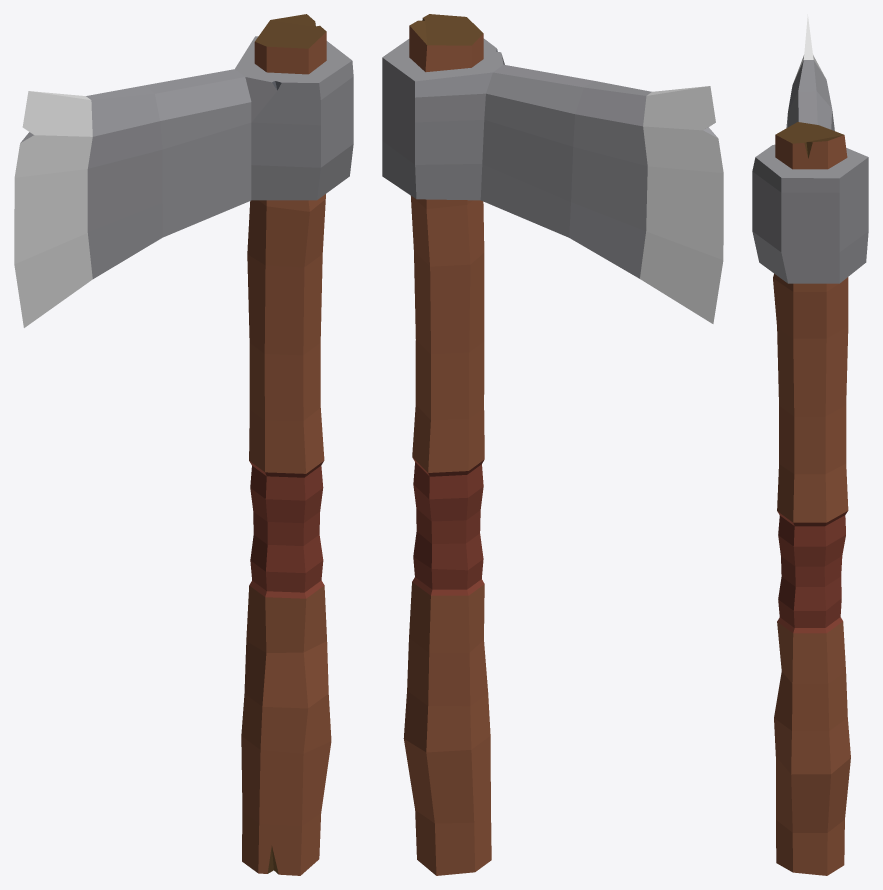
File: Woodcutter Axe.fbx
3 renders of one model, left to right at view 1: azimuth 30°, elevation 25°; view 2: azimuth 150°, elevation 25°; view 3: azimuth 270°, elevation 25°, orthographic. The views are drawn at different scales.
Parts seen in each view (by area): view 1: Cylinder; view 2: Cylinder; view 3: Cylinder.
Part boxes in pixels (x1,y1,x2,y2): Cylinder: (14, 14, 353, 875); Cylinder: (382, 14, 723, 875); Cylinder: (752, 14, 868, 875).
Size of the model in its own units: 515 by 1272 by 181.
